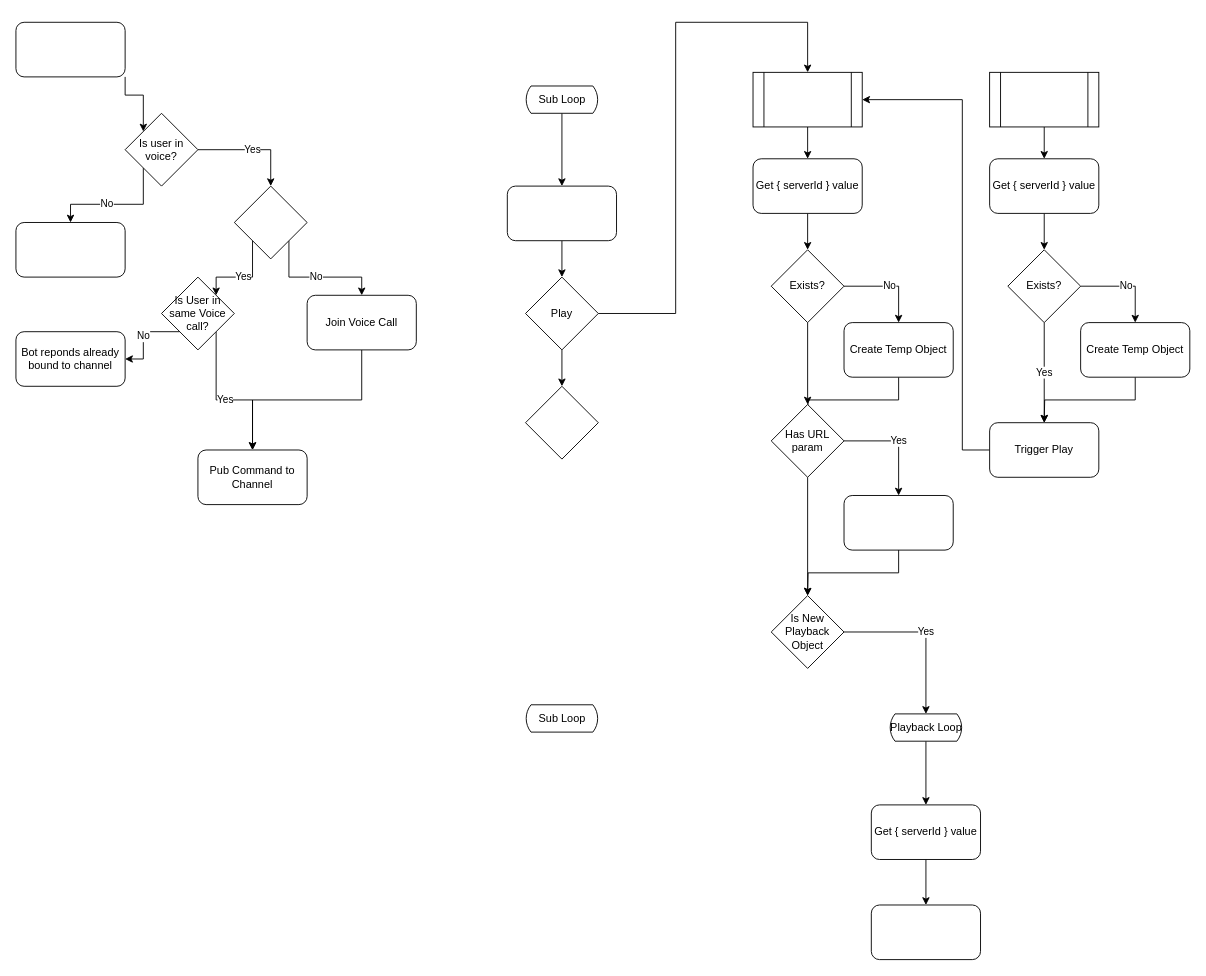
Image size: 1206x976. Some labels were removed from this diagram. Here are the shapes that lost their labels. From the top down, the centre of each, then its label:
the point at 70,49: Player Trigger Play
the point at 807,99: Play Command
the point at 1044,99: Skip Command
the point at 270,222: Is Bot Already in voice?
the point at 561,213: Event Received
the point at 70,249: Bot responds must be in voice channel
the point at 561,422: Skip
the point at 898,522: Add URL to playlist
the point at 925,932: Remove [0] Song And begin playback
